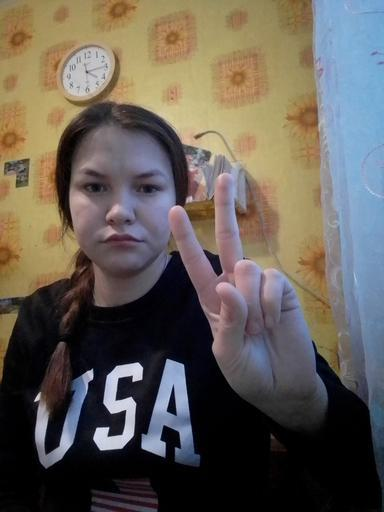peace: (167, 169, 324, 419)
